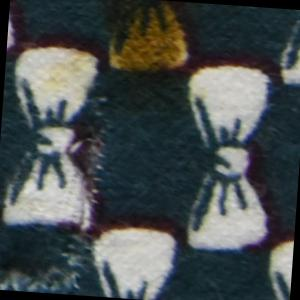Damage: (1, 114, 112, 297)
Oil Stain: (44, 1, 215, 111)
